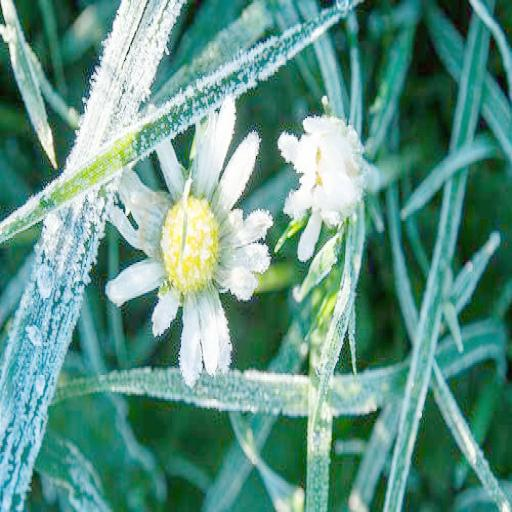daisy: (119, 134, 263, 352), (284, 118, 366, 211)
